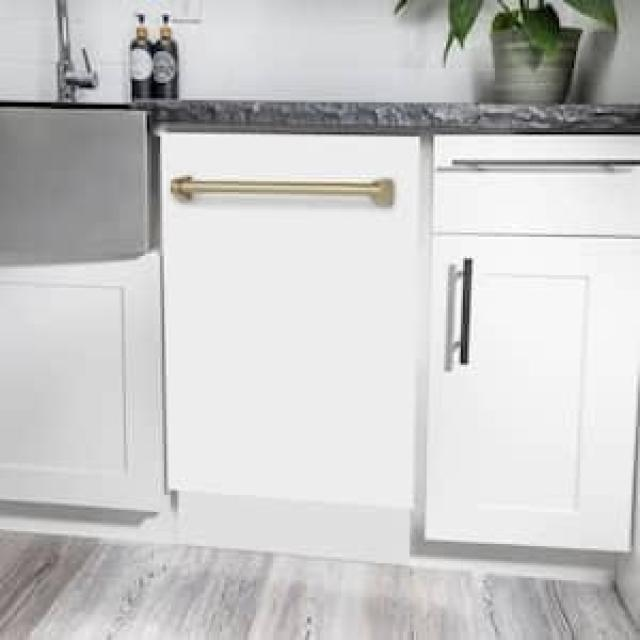dishwasher: (126, 80, 442, 612)
